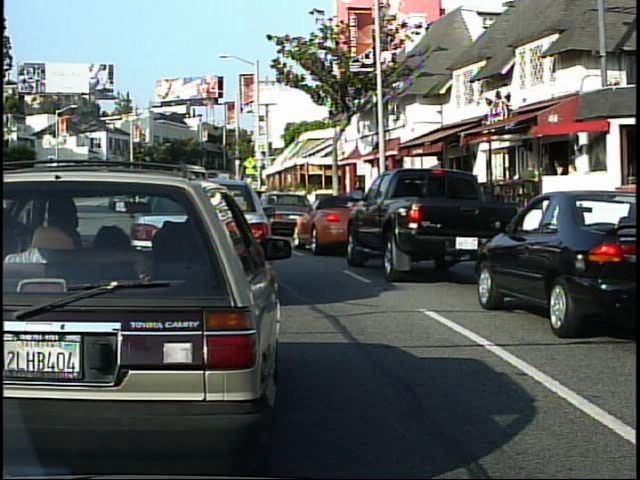person: (548, 150, 574, 220), (516, 153, 541, 222)
